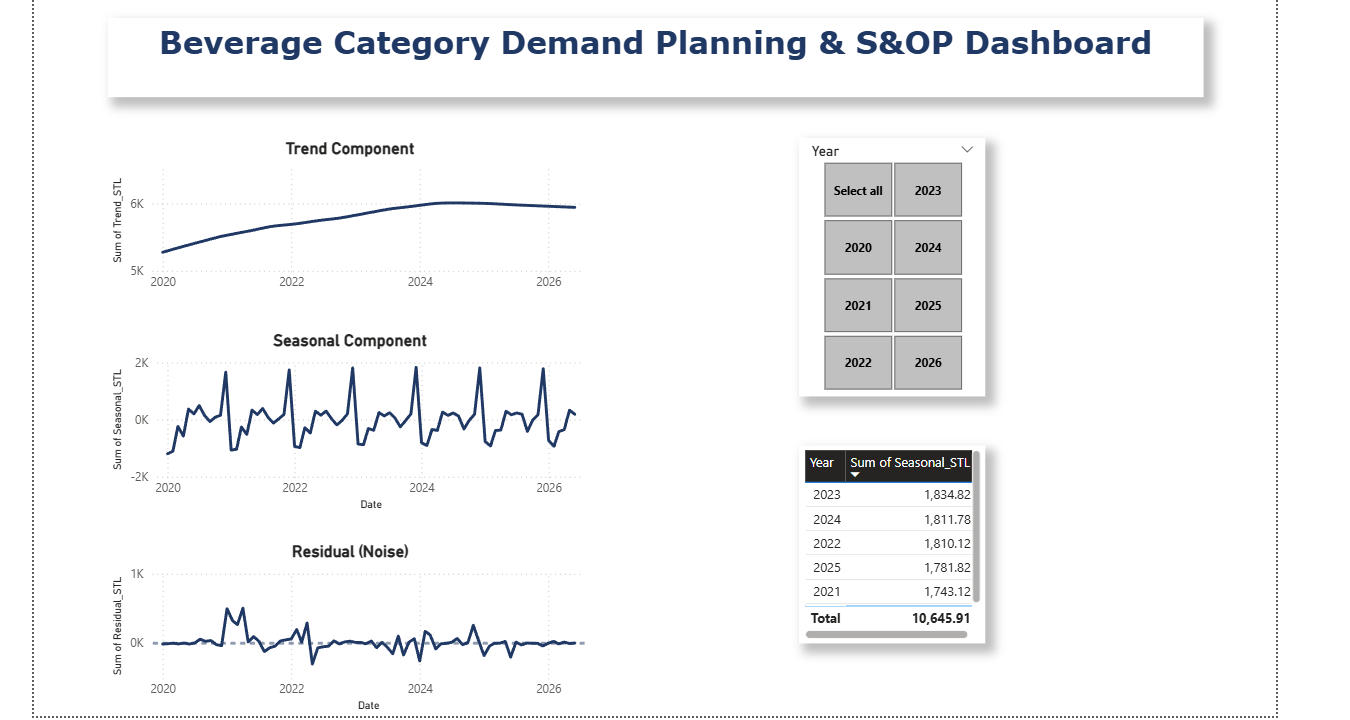

The dashboard page shown, as its layout file describes it:
{"tool":"powerbi","page":{"name":"Demand Review","canvas":[1280,720],"ordinal":1},"visuals":[{"type":"slicer","fields":{"Values":["Dim_Date.Year"]},"box":[788,124.2,192.2,266.1],"z":0},{"type":"lineChart","title":"Trend Component","fields":{"Category":["Fact_Demand.Date"],"Y":["Sum(Fact_Demand.Trend_STL)"]},"box":[75.4,124.2,499.7,167.1],"z":1000},{"type":"lineChart","title":"Seasonal Component","fields":{"Category":["Fact_Demand.Date"],"Y":["Sum(Fact_Demand.Seasonal_STL)"]},"box":[75.4,322.3,499.7,190.7],"z":2000},{"type":"lineChart","title":"Residual (Noise)","fields":{"Category":["Fact_Demand.Date"],"Y":["Sum(Fact_Demand.Residual_STL)"]},"box":[75.4,539.6,499.7,180.4],"z":3000},{"type":"tableEx","fields":{"Values":["Dim_Date.Year","Sum(Fact_Demand.Seasonal_STL)"]},"box":[788,440.6,192.2,204],"z":4000},{"type":"textbox","box":[75.4,0,1129.5,81.3],"z":4001}]}

Visuals, with their boxes on the page's 1280x720 design canvas (x1, y1, x2, y2). These are canvas units, not pixel positions in the 1350x720 screenshot, which may show the page scaled, cropped or inside an application window:
slicer - Dim_Date.Year: [left=788, top=124, right=980, bottom=390]
"Trend Component" lineChart: [left=75, top=124, right=575, bottom=291]
"Seasonal Component" lineChart: [left=75, top=322, right=575, bottom=513]
"Residual (Noise)" lineChart: [left=75, top=540, right=575, bottom=720]
tableEx - Dim_Date.Year x Sum(Fact_Demand.Seasonal_STL): [left=788, top=441, right=980, bottom=645]
textbox: [left=75, top=0, right=1205, bottom=81]
